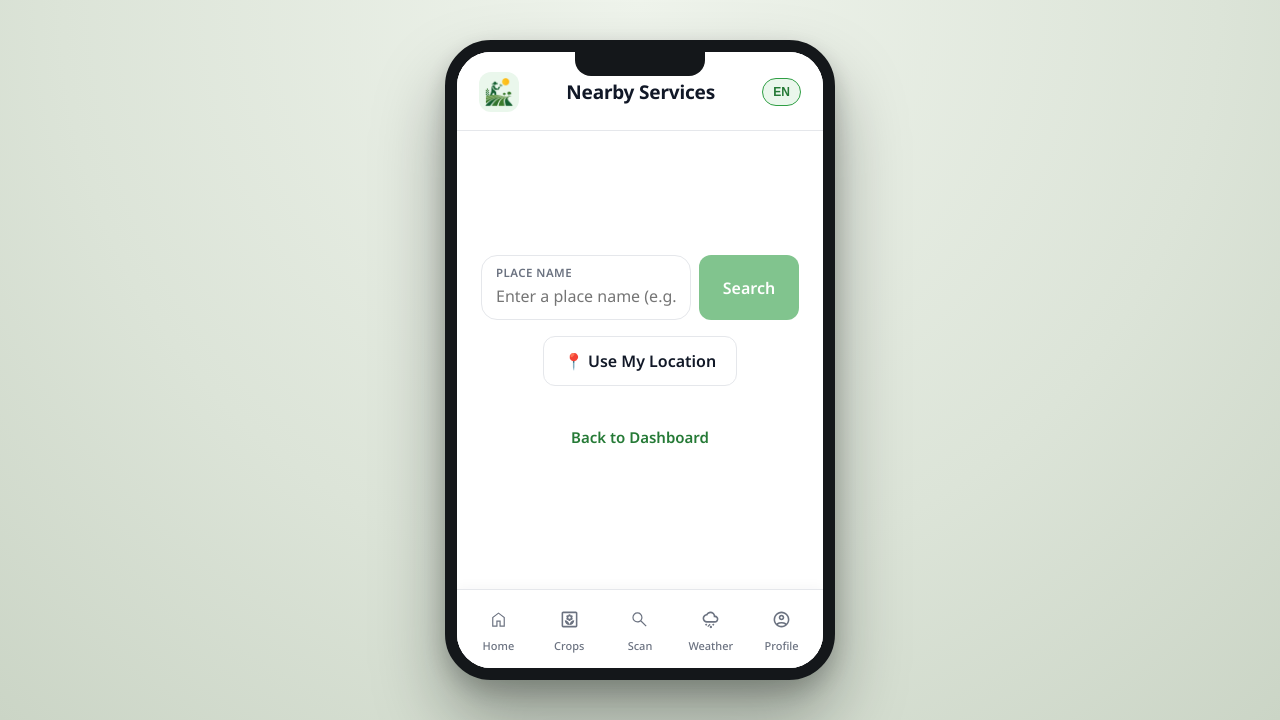
Scenario: LocatorPage › searches by a manually typed place and shows results in list view by default
Type "Puttur" into the field with placeholder "Enter a place name (e.g. Puttur, Dakshina Kannada)" at [586, 296], box [496, 283, 676, 309]
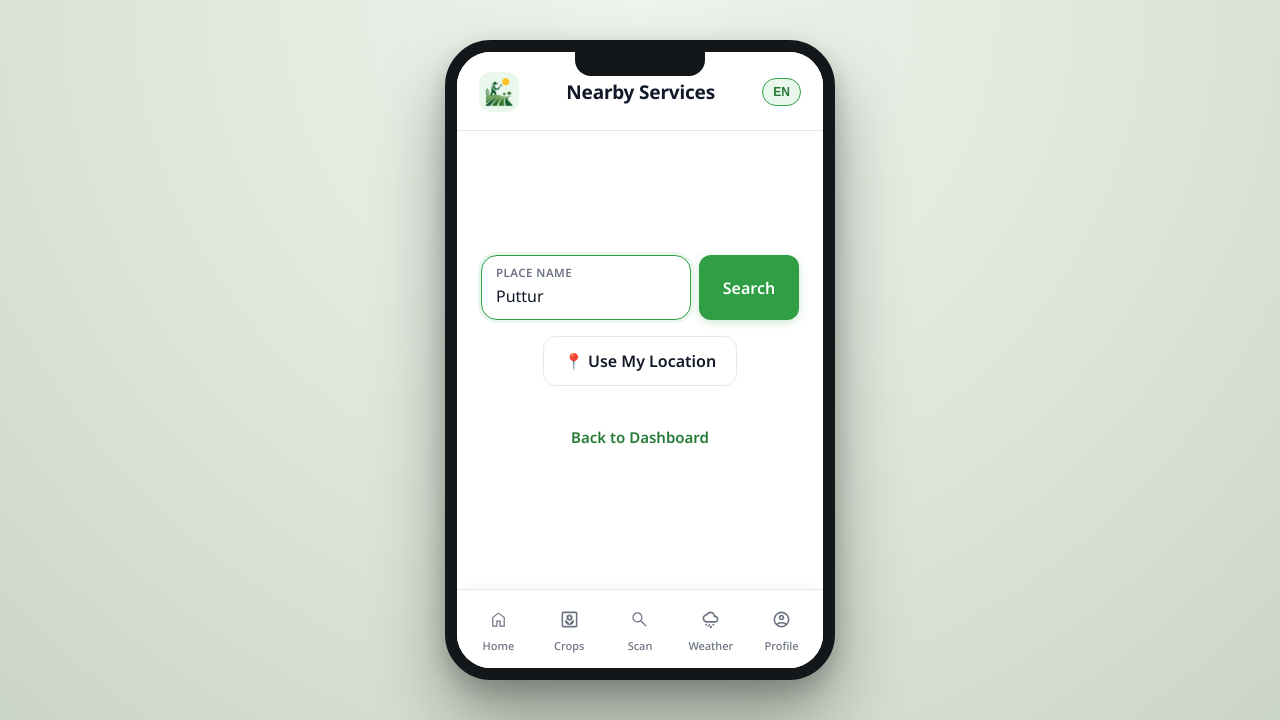
Click the button "Search" at [749, 288], box [699, 255, 799, 320]
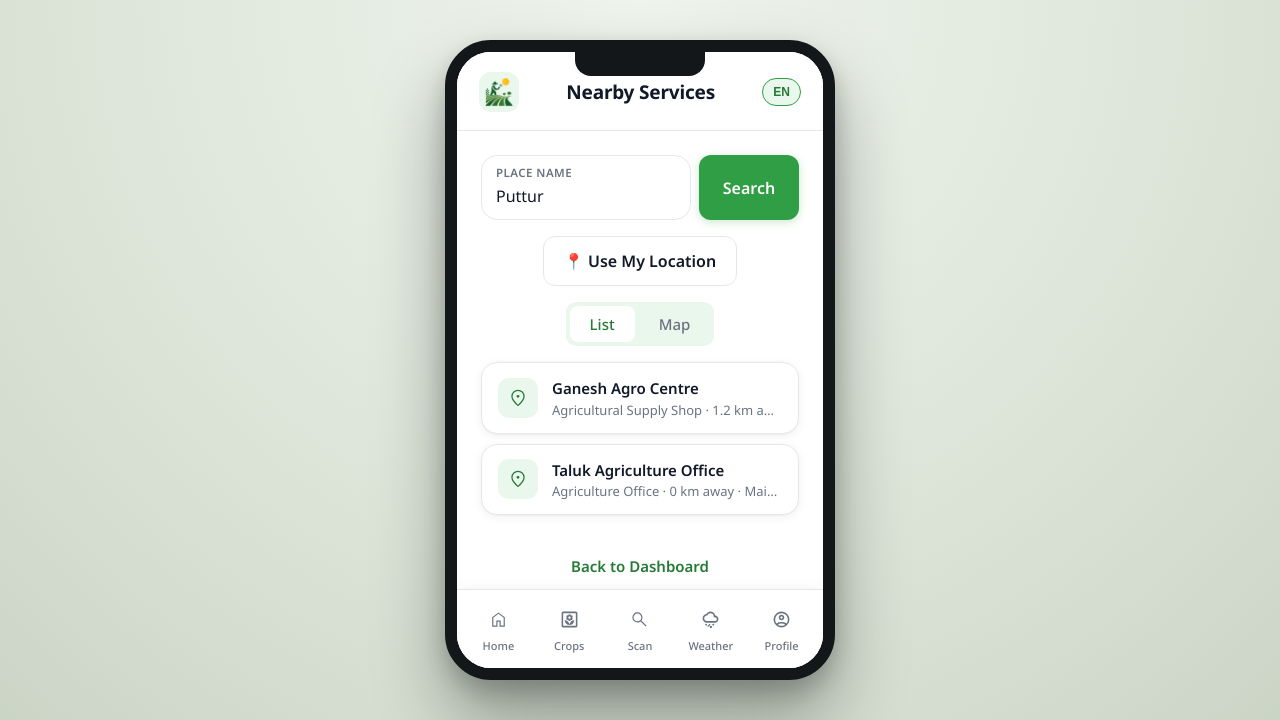
Now the text "Ganesh Agro Centre" is shown, box [552, 378, 699, 398]
Now the text "Taluk Agriculture Office" is shown, box [552, 460, 724, 480]
Now the text "Agricultural Supply Shop · 1.2 km away" is shown, box [552, 402, 782, 419]
